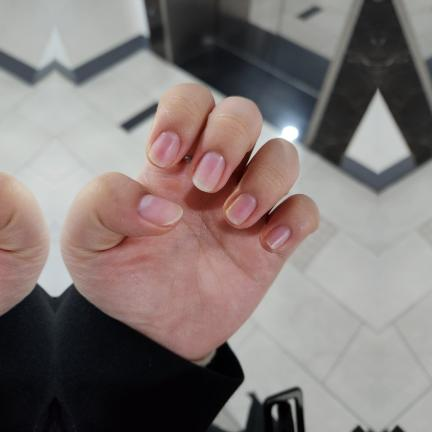Nail: (138, 194, 182, 226), (192, 151, 225, 192), (147, 131, 181, 167), (224, 193, 256, 226), (264, 225, 290, 251)
